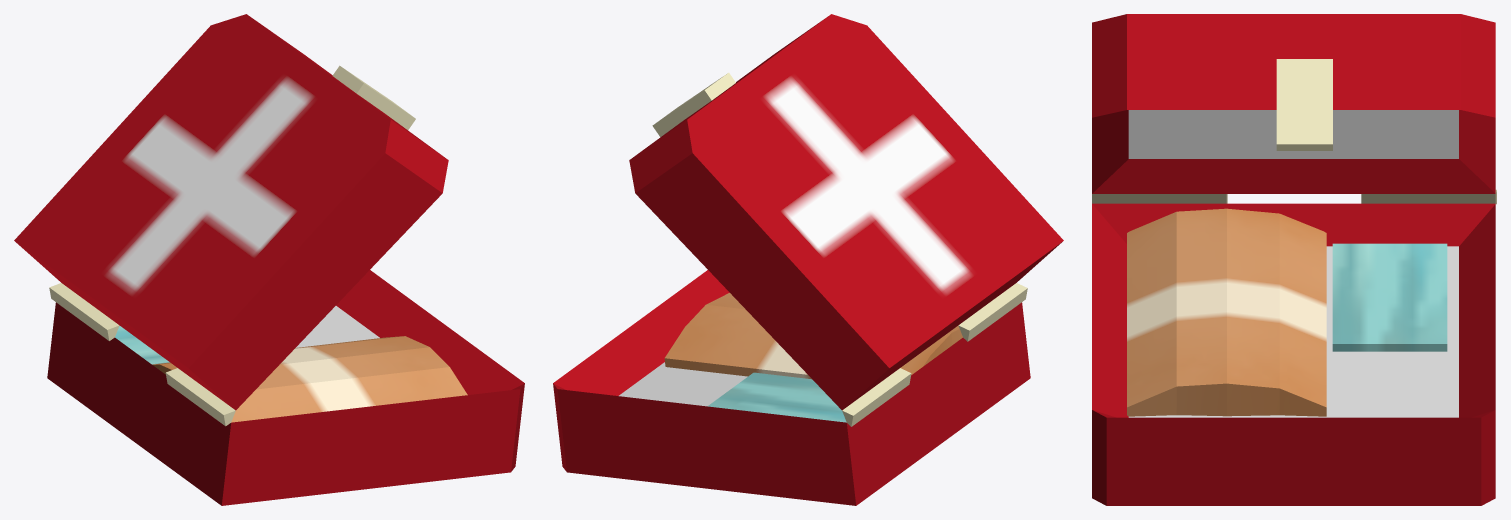
The model's file is MedicKit_Open.fbx.
3 renders of one model, left to right at view 1: azimuth 30°, elevation 25°; view 2: azimuth 150°, elevation 25°; view 3: azimuth 270°, elevation 25°, orthographic. The views are drawn at different scales.
Visible parts, largest first — view 1: MedicKit; view 2: MedicKit; view 3: MedicKit.
Part boxes in pixels (bbox=[...]): MedicKit: bbox=[14, 14, 524, 505]; MedicKit: bbox=[553, 14, 1063, 505]; MedicKit: bbox=[1092, 14, 1496, 505].
Size of the model in its own units: 99.15 by 102 by 87.66.
